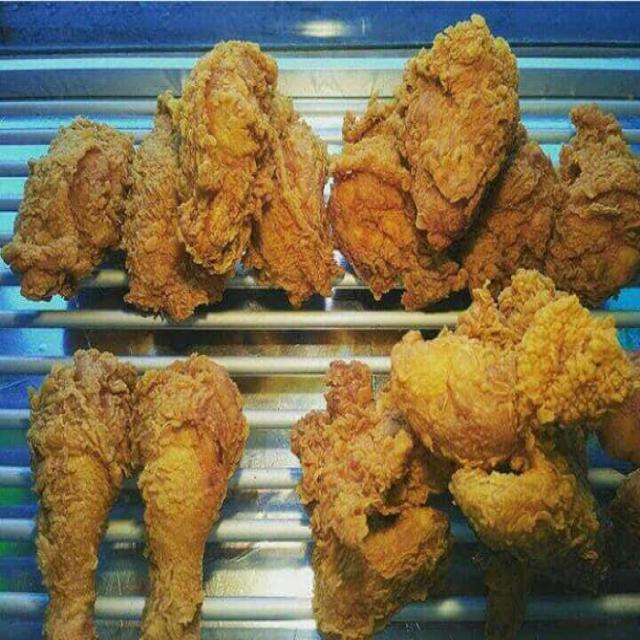Frango: (27, 346, 139, 640), (135, 354, 246, 640), (400, 11, 521, 252), (0, 87, 133, 300), (172, 36, 281, 280), (332, 96, 462, 298), (122, 108, 230, 323), (248, 108, 346, 311), (548, 101, 636, 306)
